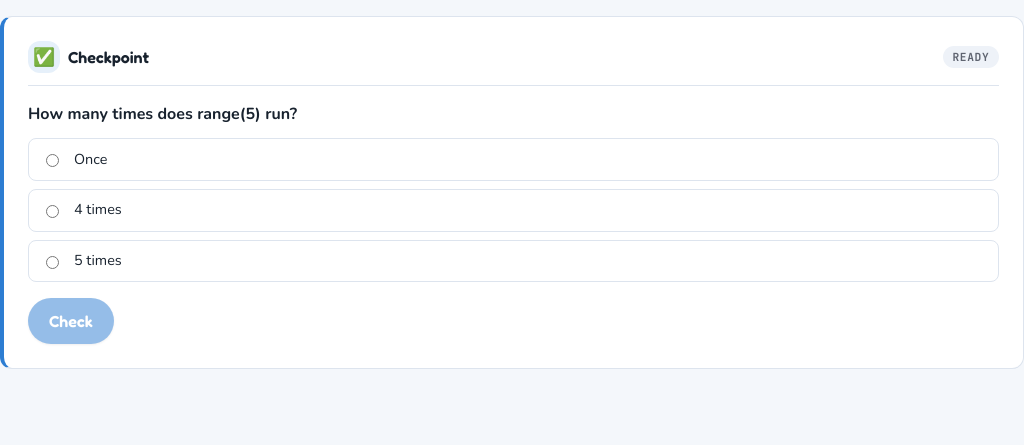
it: [Phase 3] Checkpoint › shows incorrect feedback and does not complete on a wrong answer
This screenshot has width=1024, height=445.
Click the radio button labelled "4 times": (52,212) [46,205,59,218]
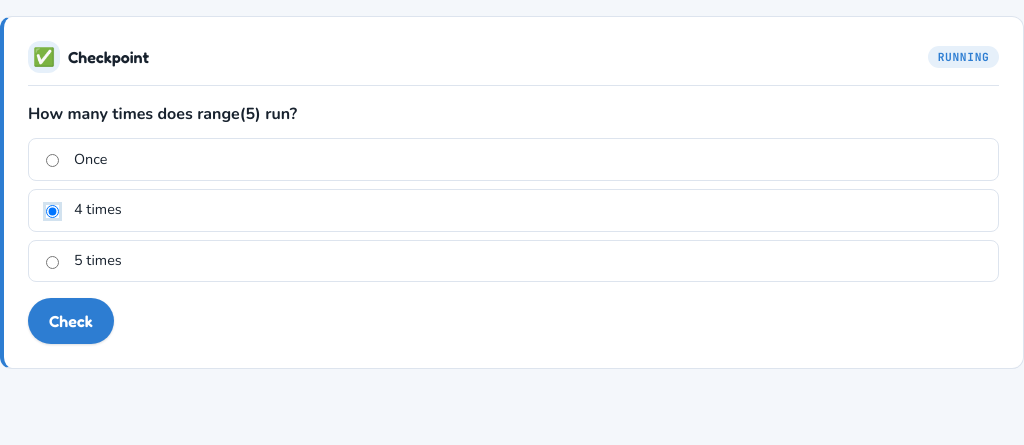
Click the button "Check": (71,321) [28,298,114,344]
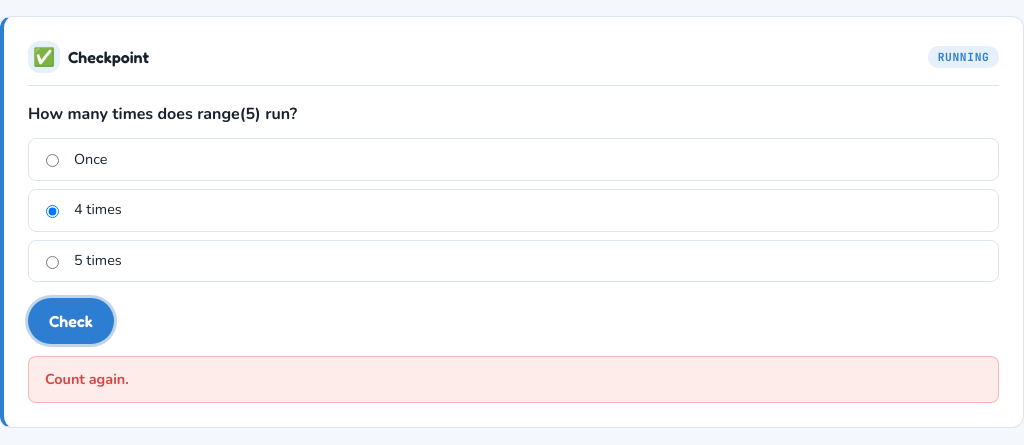
Now the text "Count again." is shown, box [28,356,999,403]
